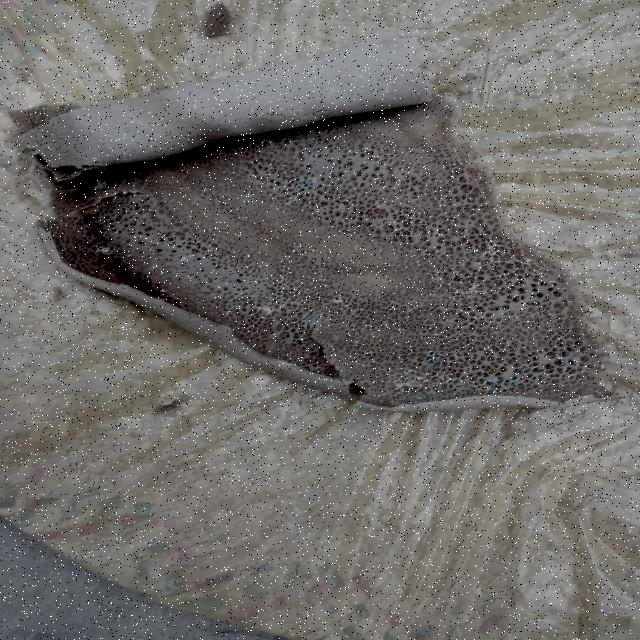injera_mold: (386, 367, 427, 394), (486, 241, 512, 264), (451, 283, 485, 300), (302, 310, 323, 328), (252, 301, 276, 316), (91, 244, 116, 255), (424, 350, 443, 364), (299, 176, 316, 190), (486, 380, 504, 390), (374, 84, 388, 95), (284, 196, 298, 207), (242, 191, 254, 203), (447, 354, 460, 365), (94, 180, 107, 190), (507, 376, 521, 385), (556, 350, 570, 359), (452, 383, 467, 391), (347, 375, 361, 383), (277, 280, 289, 288), (570, 358, 581, 366), (333, 297, 345, 304), (354, 244, 361, 252), (524, 258, 532, 265), (414, 260, 422, 266), (318, 277, 326, 283), (426, 393, 434, 399), (364, 350, 374, 354), (280, 303, 287, 308), (159, 288, 166, 293), (520, 251, 525, 256), (344, 304, 350, 308), (181, 257, 187, 261), (113, 230, 119, 234), (126, 254, 132, 258), (327, 385, 333, 389), (368, 148, 372, 152), (188, 255, 192, 258), (175, 275, 178, 278)
